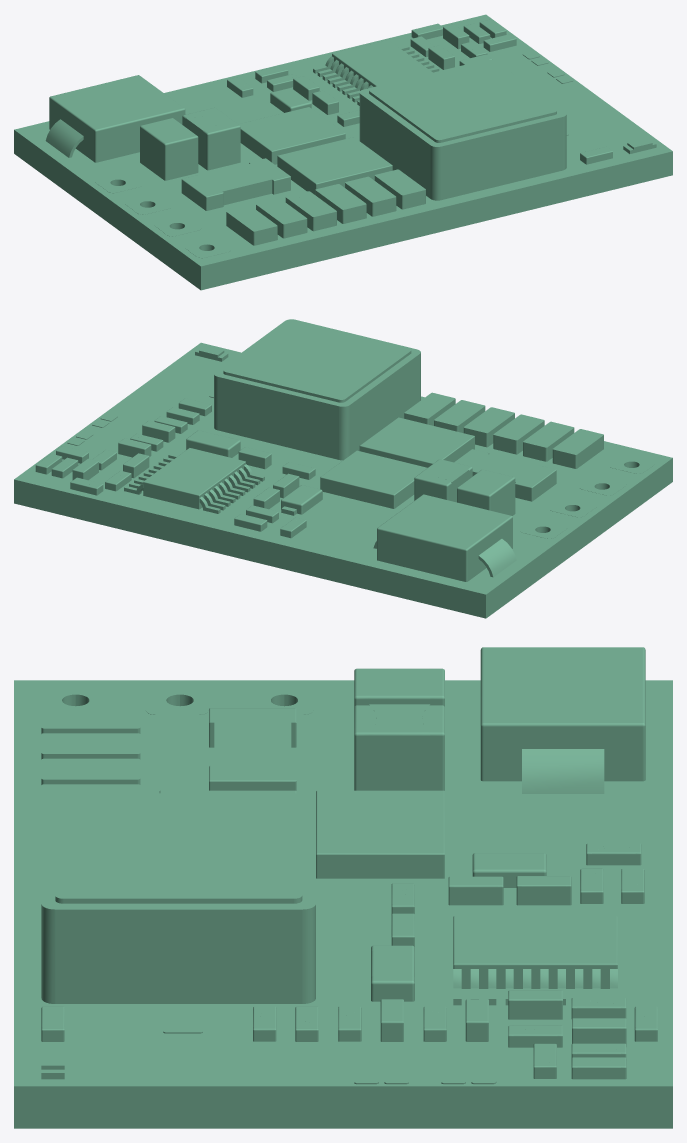
3 renders of one model, top to bottom at view 1: azimuth 30°, elevation 25°; view 2: azimuth 150°, elevation 25°; view 3: azimuth 270°, elevation 25°, orthographic. The views are drawn at different scales.
Parts seen in each view (by area): view 1: .matek-bec.obj; view 2: .matek-bec.obj; view 3: .matek-bec.obj.
Boxes of the visible parts, x1=… form: .matek-bec.obj: x1=14, y1=14, x2=672, y2=290; .matek-bec.obj: x1=14, y1=319, x2=672, y2=618; .matek-bec.obj: x1=14, y1=647, x2=672, y2=1128.
Size of the model in its own units: 35 by 5.71 by 24.
